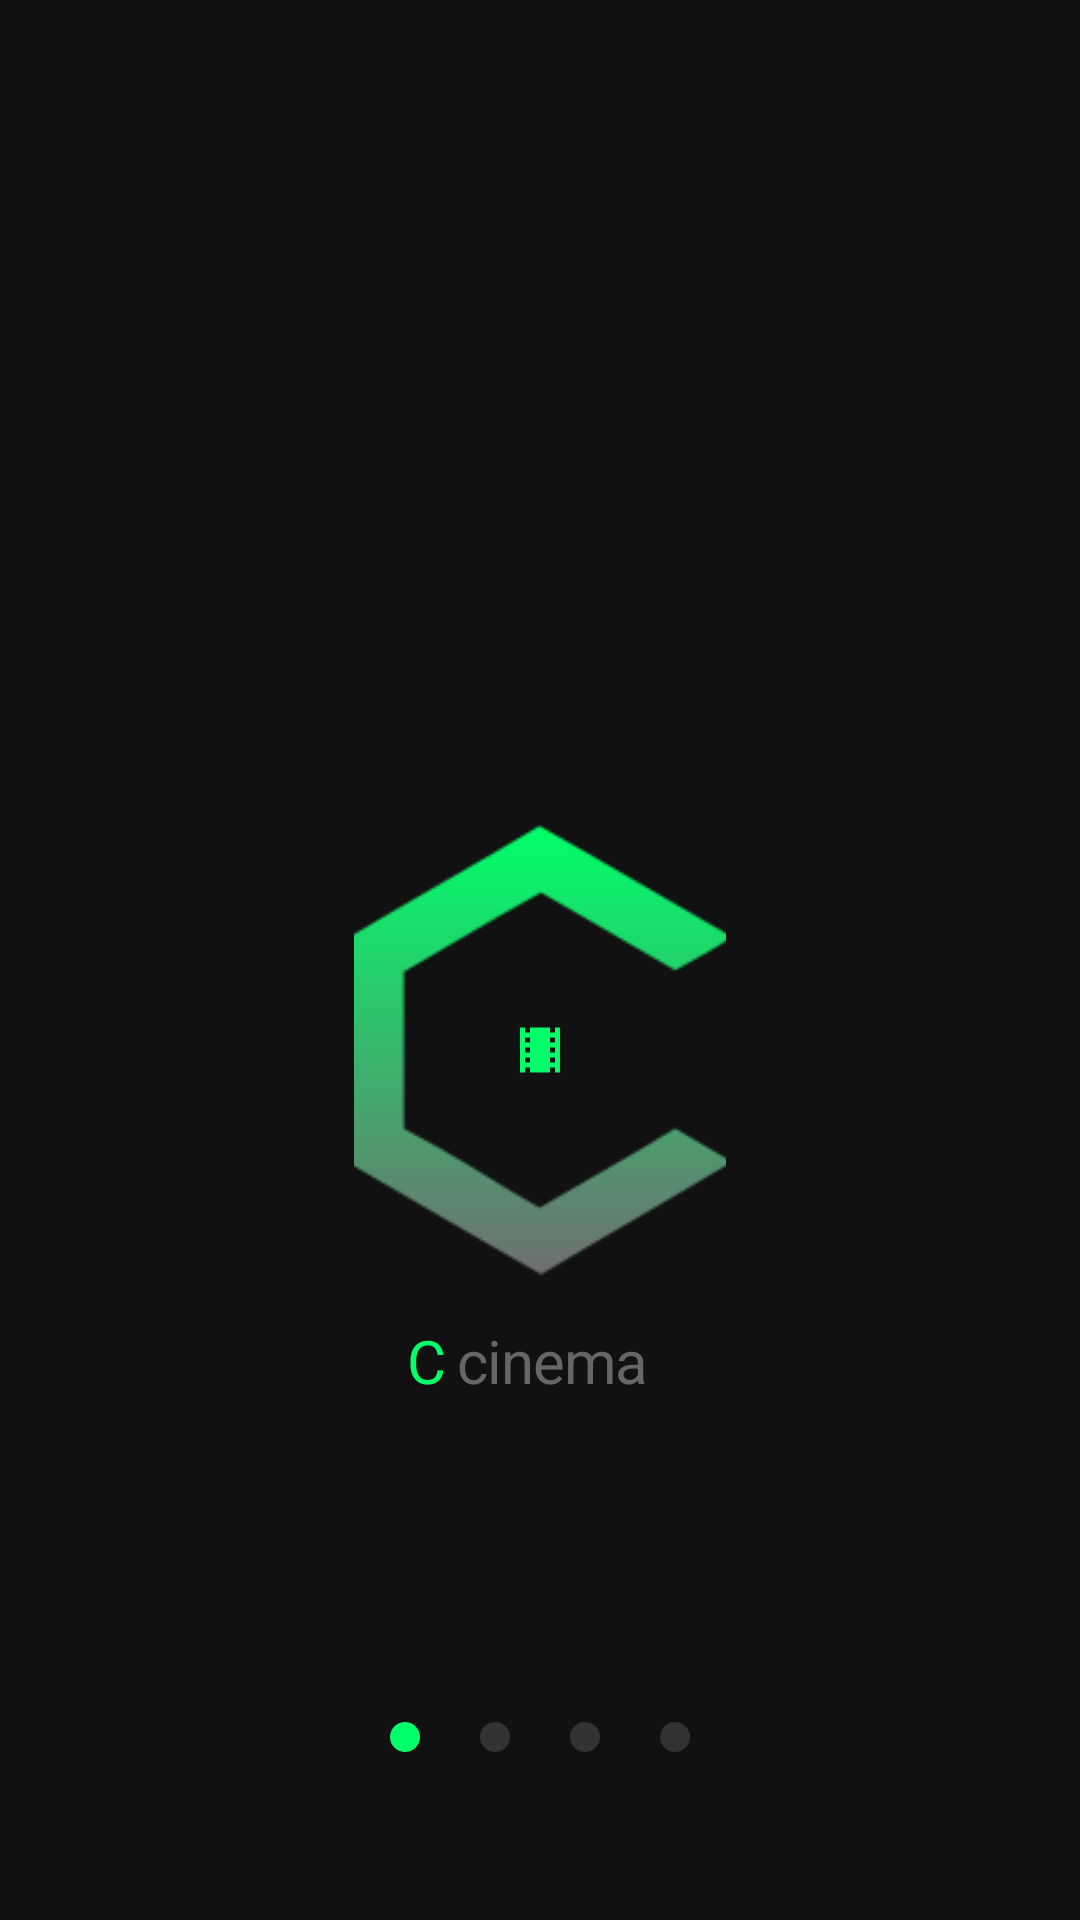

Icons on this 1080px x 1920px Android screen, each with the point to tap as (x=x, y=y):
local movies: (x=540, y=1050)
